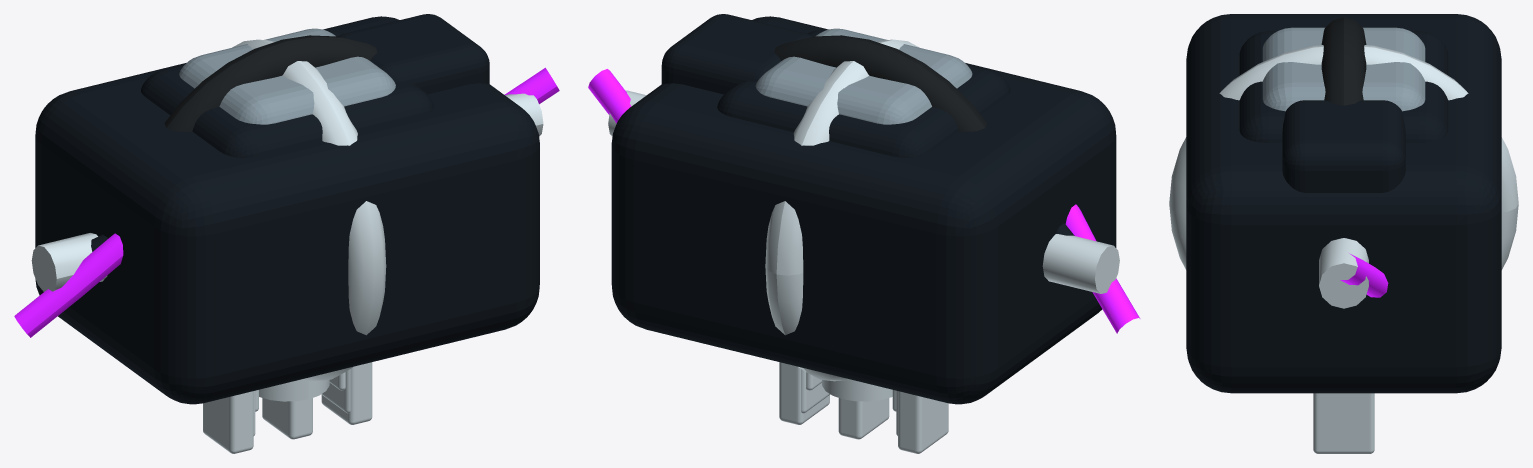
Rendered from electrical_25.glb.
The picture shows the model from 3 angles, left to right: view 1: azimuth 30°, elevation 25°; view 2: azimuth 150°, elevation 25°; view 3: azimuth 270°, elevation 25°; orthographic projection.
Visible parts, largest first — view 1: asset_mesh__electrical_1205__reference_body, asset_mesh__electrical_1223__relay_or_fuse_body, asset_mesh__electrical_1222__sensor_body, asset_mesh__electrical_1231__functional_ring, asset_mesh__electrical_1222__connector, asset_mesh__electrical_1214__service_element, asset_mesh__electrical_1239__current_path, asset_mesh__electrical_1223__blade_1, asset_mesh__electrical_1245__left_terminal, asset_mesh__electrical_1223__blade_2, asset_mesh__electrical_1223__blade_3, asset_mesh__electrical_1222__sensor_probe (+2 smaller); view 2: asset_mesh__electrical_1205__reference_body, asset_mesh__electrical_1223__relay_or_fuse_body, asset_mesh__electrical_1222__sensor_body, asset_mesh__electrical_1231__functional_ring, asset_mesh__electrical_1222__connector, asset_mesh__electrical_1214__service_element, asset_mesh__electrical_1245__left_terminal, asset_mesh__electrical_1239__current_path, asset_mesh__electrical_1223__blade_1, asset_mesh__electrical_1223__blade_2, asset_mesh__electrical_1223__blade_3, asset_mesh__electrical_1222__sensor_probe (+1 smaller); view 3: asset_mesh__electrical_1205__reference_body, asset_mesh__electrical_1222__connector, asset_mesh__electrical_1222__sensor_body, asset_mesh__electrical_1231__functional_ring, asset_mesh__electrical_1223__relay_or_fuse_body, asset_mesh__electrical_1223__blade_3, asset_mesh__electrical_1214__service_element, asset_mesh__electrical_1245__right_terminal, asset_mesh__electrical_1239__current_path.
Boxes of the visible parts, x1,y1,x2,y2 form: asset_mesh__electrical_1205__reference_body: (35,16,539,404); asset_mesh__electrical_1223__relay_or_fuse_body: (141,30,434,157); asset_mesh__electrical_1222__sensor_body: (179,28,395,124); asset_mesh__electrical_1231__functional_ring: (232,39,386,381); asset_mesh__electrical_1222__connector: (338,14,489,94); asset_mesh__electrical_1214__service_element: (164,35,377,131); asset_mesh__electrical_1239__current_path: (14,67,559,337); asset_mesh__electrical_1223__blade_1: (203,391,253,453); asset_mesh__electrical_1245__left_terminal: (31,233,107,291); asset_mesh__electrical_1223__blade_2: (262,398,312,439); asset_mesh__electrical_1223__blade_3: (321,362,372,424); asset_mesh__electrical_1222__sensor_probe: (259,379,329,401); asset_mesh__electrical_1205__reference_body: (611,16,1116,404); asset_mesh__electrical_1223__relay_or_fuse_body: (717,30,1010,157); asset_mesh__electrical_1222__sensor_body: (755,28,972,124); asset_mesh__electrical_1231__functional_ring: (765,39,918,381); asset_mesh__electrical_1222__connector: (661,14,813,94); asset_mesh__electrical_1214__service_element: (774,35,986,131); asset_mesh__electrical_1245__left_terminal: (1042,234,1119,293); asset_mesh__electrical_1239__current_path: (588,69,1140,333); asset_mesh__electrical_1223__blade_1: (898,391,948,453); asset_mesh__electrical_1223__blade_2: (838,398,889,439); asset_mesh__electrical_1223__blade_3: (779,362,829,424); asset_mesh__electrical_1222__sensor_probe: (822,379,892,401); asset_mesh__electrical_1205__reference_body: (1186,14,1501,393); asset_mesh__electrical_1222__connector: (1282,100,1405,192); asset_mesh__electrical_1222__sensor_body: (1262,27,1425,111); asset_mesh__electrical_1231__functional_ring: (1169,45,1518,269); asset_mesh__electrical_1223__relay_or_fuse_body: (1239,31,1448,142); asset_mesh__electrical_1223__blade_3: (1313,393,1374,453); asset_mesh__electrical_1214__service_element: (1321,17,1366,105); asset_mesh__electrical_1245__right_terminal: (1319,238,1368,308); asset_mesh__electrical_1239__current_path: (1340,253,1388,297).
Size of the model in its own units: 1.54 by 1.05 by 0.8573.
